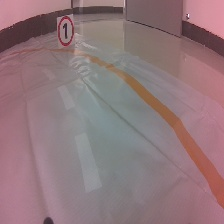limit: (56, 13, 75, 49)
